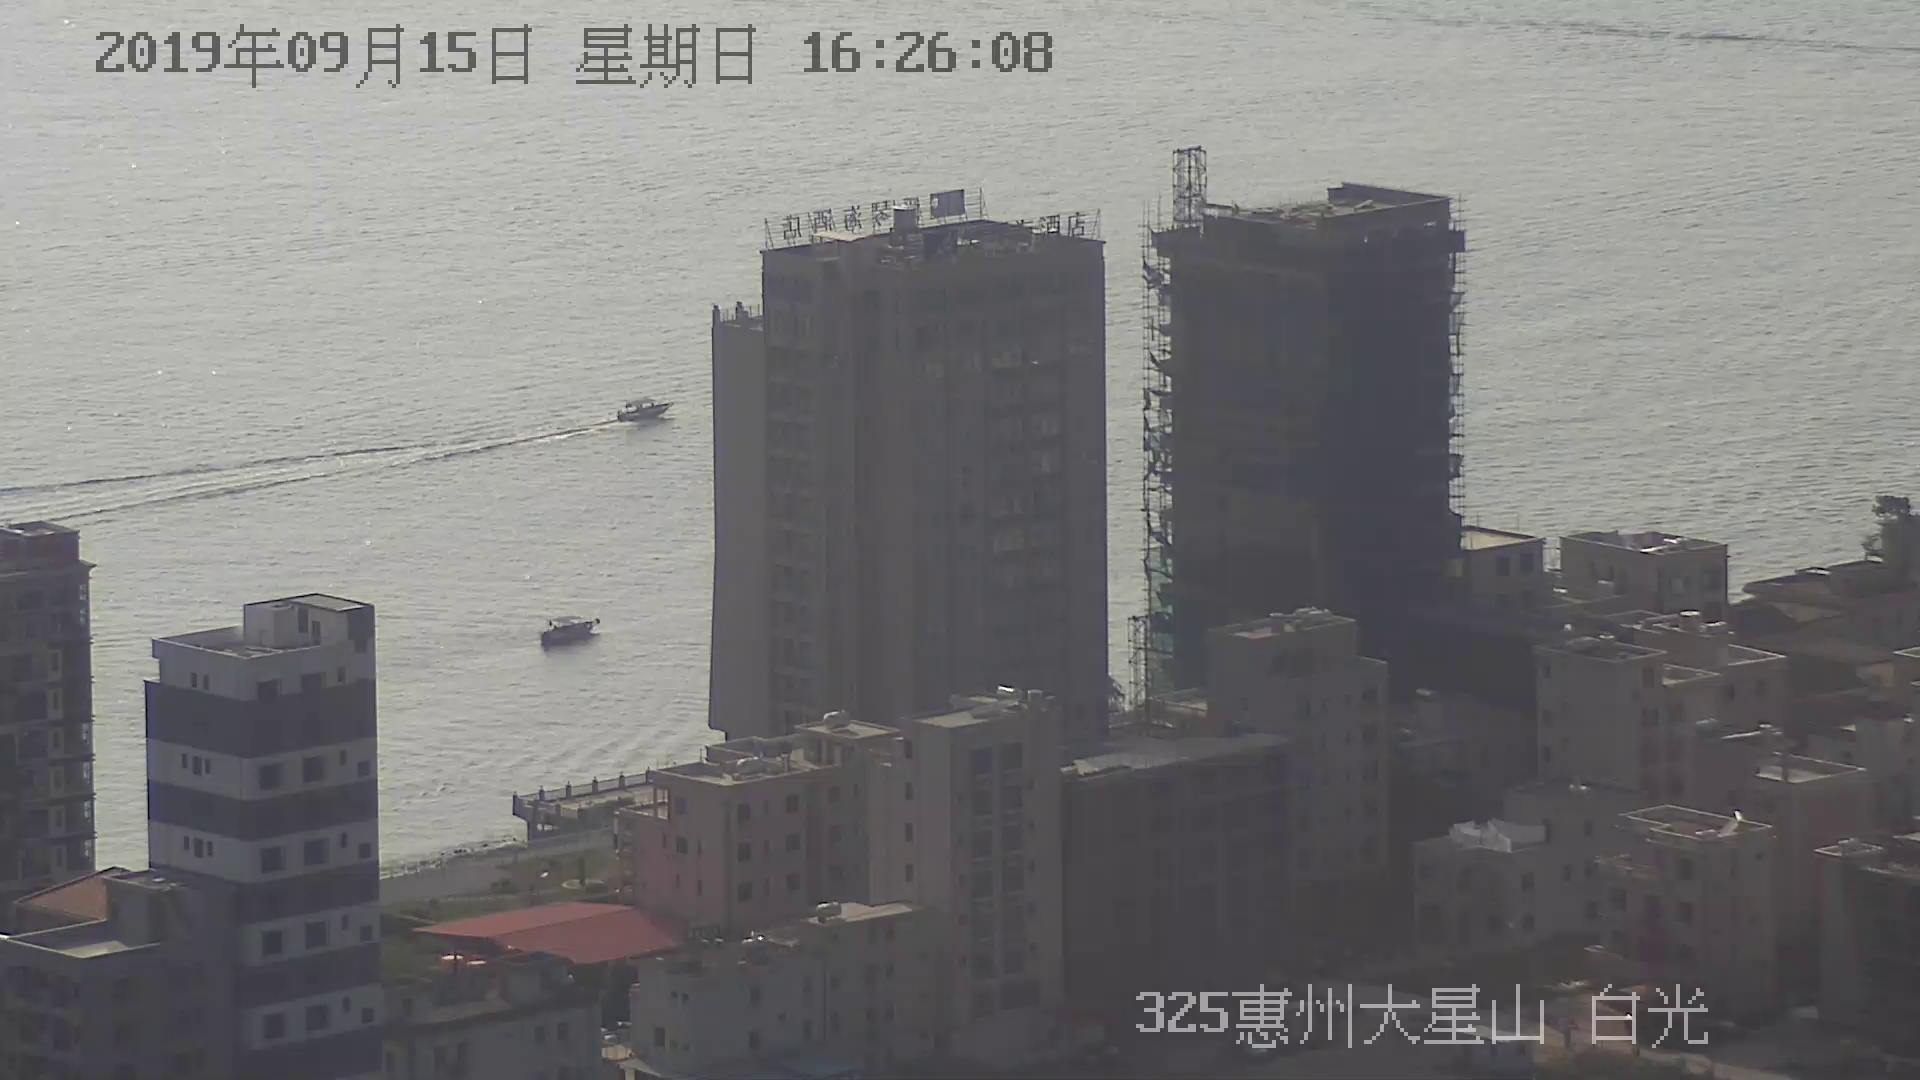ship: (612, 392, 673, 425), (541, 621, 603, 650)
